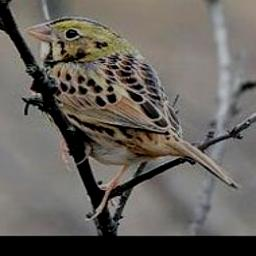Sparrow: (20, 13, 240, 223)
